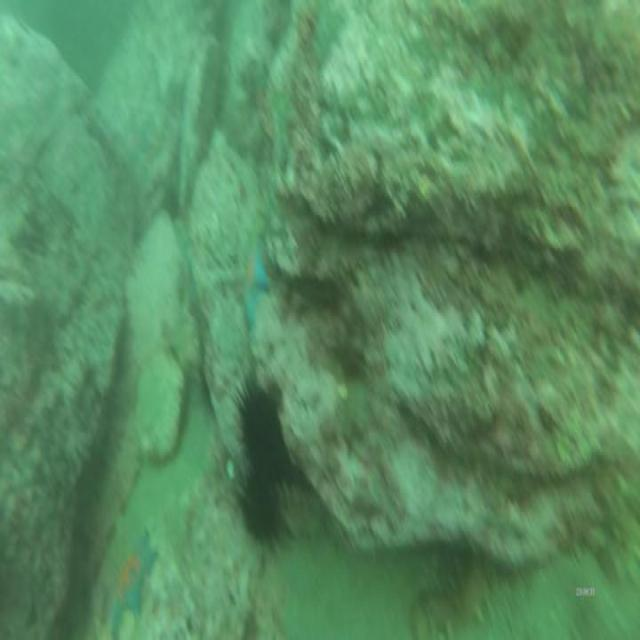echinus: (231, 364, 297, 492), (237, 474, 297, 559)
starfish: (111, 526, 157, 640), (230, 232, 273, 334)
